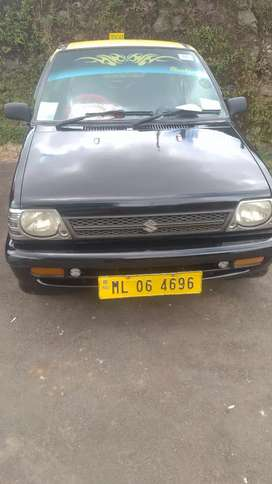ML064696: (97, 269, 202, 298)
